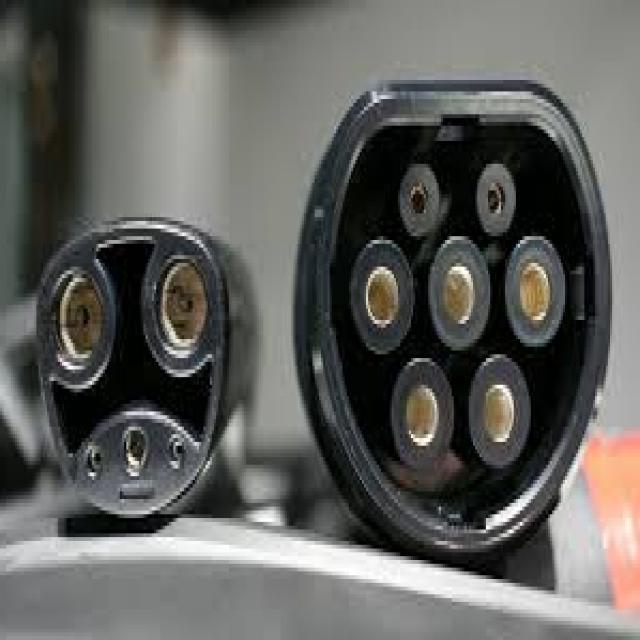Type 2: (263, 56, 630, 572)
